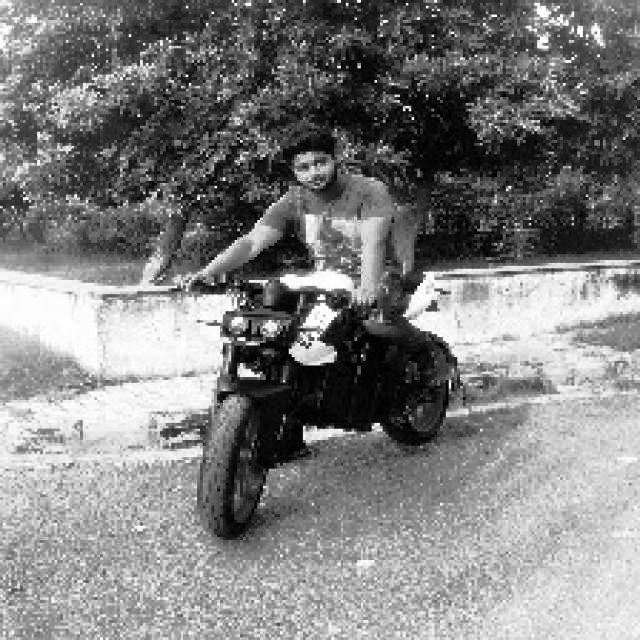Bike: (185, 269, 465, 557)
